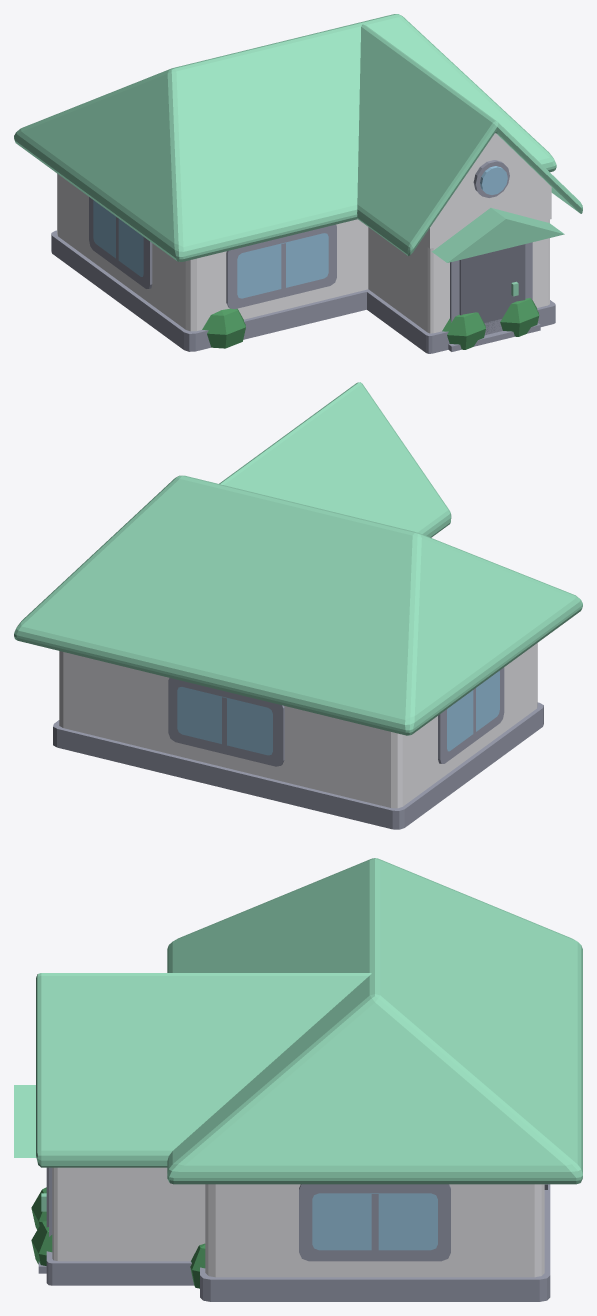
Rendered from house-1x1-1f-mansard-a.glb.
The picture shows the model from 3 angles, top to bottom: view 1: azimuth 30°, elevation 25°; view 2: azimuth 150°, elevation 25°; view 3: azimuth 270°, elevation 25°; orthographic projection. The views are drawn at different scales.
Parts seen in each view (by area): view 1: house-1x1-1f-mansard-a; view 2: house-1x1-1f-mansard-a; view 3: house-1x1-1f-mansard-a.
Boxes of the visible parts, x1,y1,x2,y2 form: house-1x1-1f-mansard-a: (14, 14, 582, 353); house-1x1-1f-mansard-a: (14, 382, 582, 829); house-1x1-1f-mansard-a: (14, 858, 582, 1301).
Size of the model in its own units: 1 by 0.552 by 1.04.
Materials: 1 (1 with a texture image).
